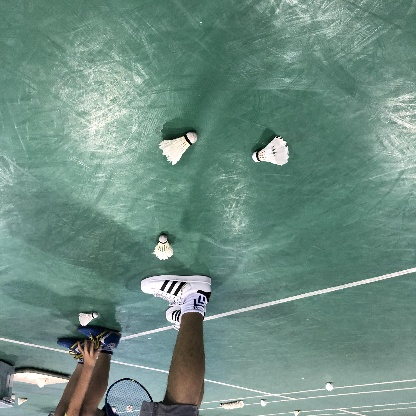ball_single: (158, 132, 197, 165), (252, 136, 289, 165), (154, 235, 173, 260), (78, 312, 98, 327), (220, 401, 244, 410), (326, 382, 333, 391), (261, 399, 267, 407), (293, 410, 301, 416)
